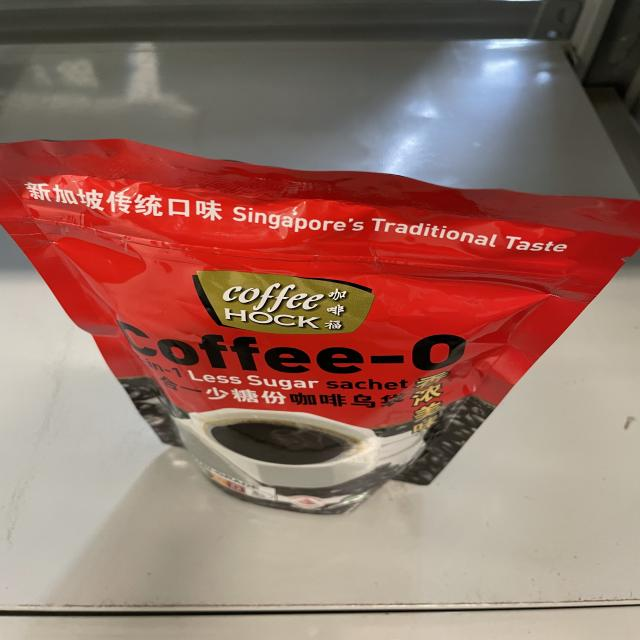object_name: (32, 157, 589, 517)
